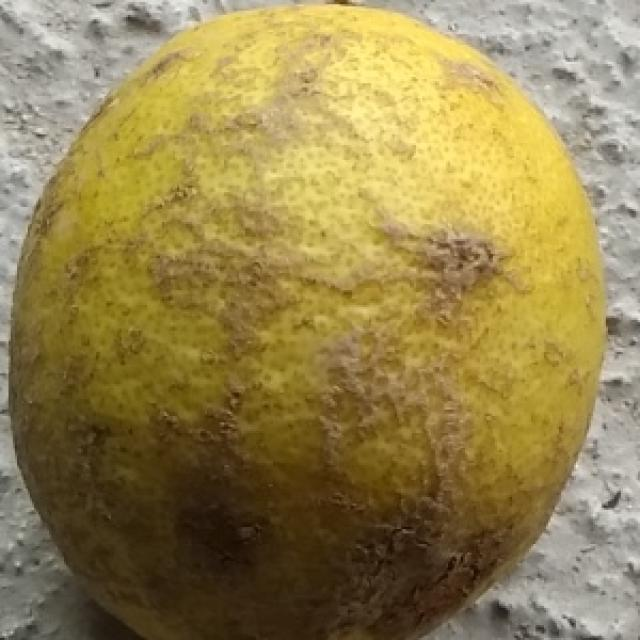overripe: (9, 0, 613, 640)
